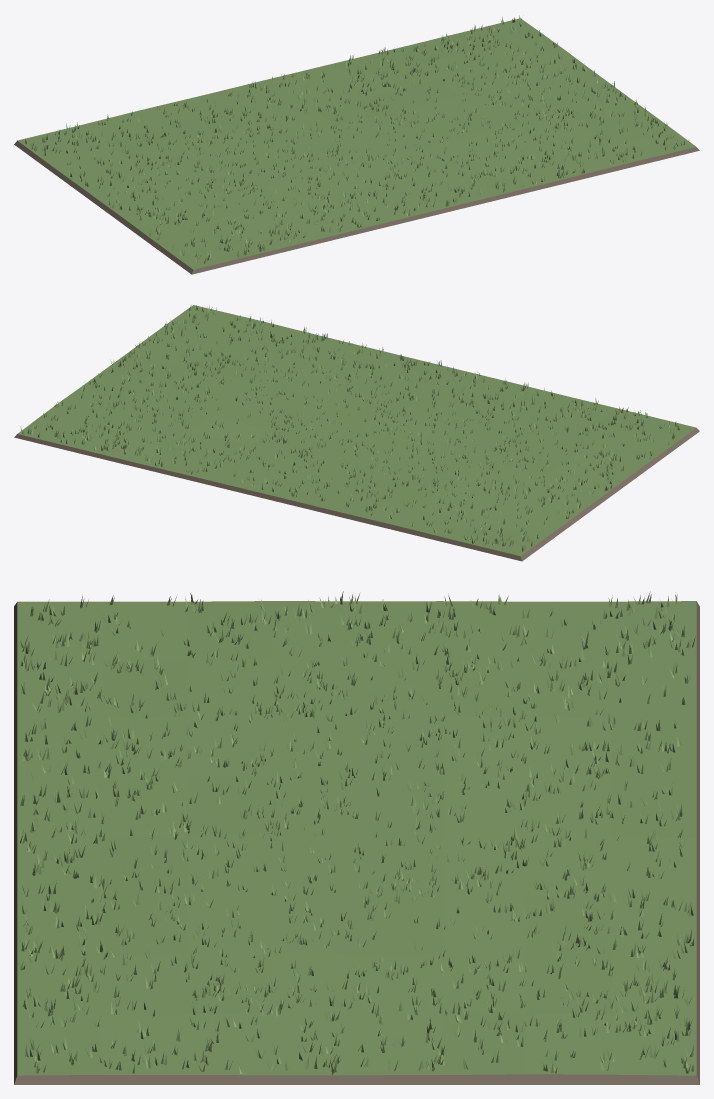
Rendered from pasto_cantero.glb.
The picture shows the model from 3 angles, top to bottom: view 1: azimuth 30°, elevation 25°; view 2: azimuth 150°, elevation 25°; view 3: azimuth 270°, elevation 25°; orthographic projection. The views are drawn at different scales.
Parts seen in each view (by area): view 1: Terreno_Cesped, Briznas_Cesped; view 2: Terreno_Cesped, Briznas_Cesped; view 3: Terreno_Cesped, Briznas_Cesped.
Part boxes in pixels (x1,y1,x2,y2): Terreno_Cesped: [14, 18, 699, 274]; Briznas_Cesped: [25, 15, 689, 263]; Terreno_Cesped: [14, 305, 699, 561]; Briznas_Cesped: [20, 305, 679, 551]; Terreno_Cesped: [14, 601, 699, 1084]; Briznas_Cesped: [18, 591, 695, 1074].
Bounding box in the file's own units: 4.95 × 0.099 × 3.
